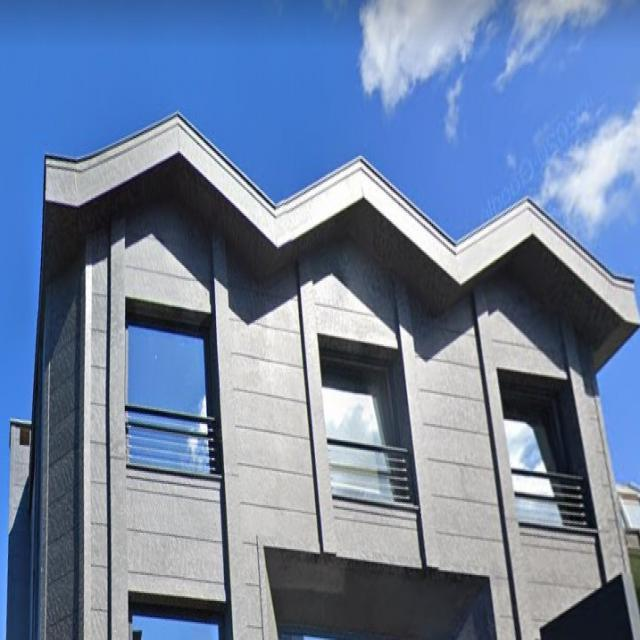Building: (6, 112, 640, 640)
